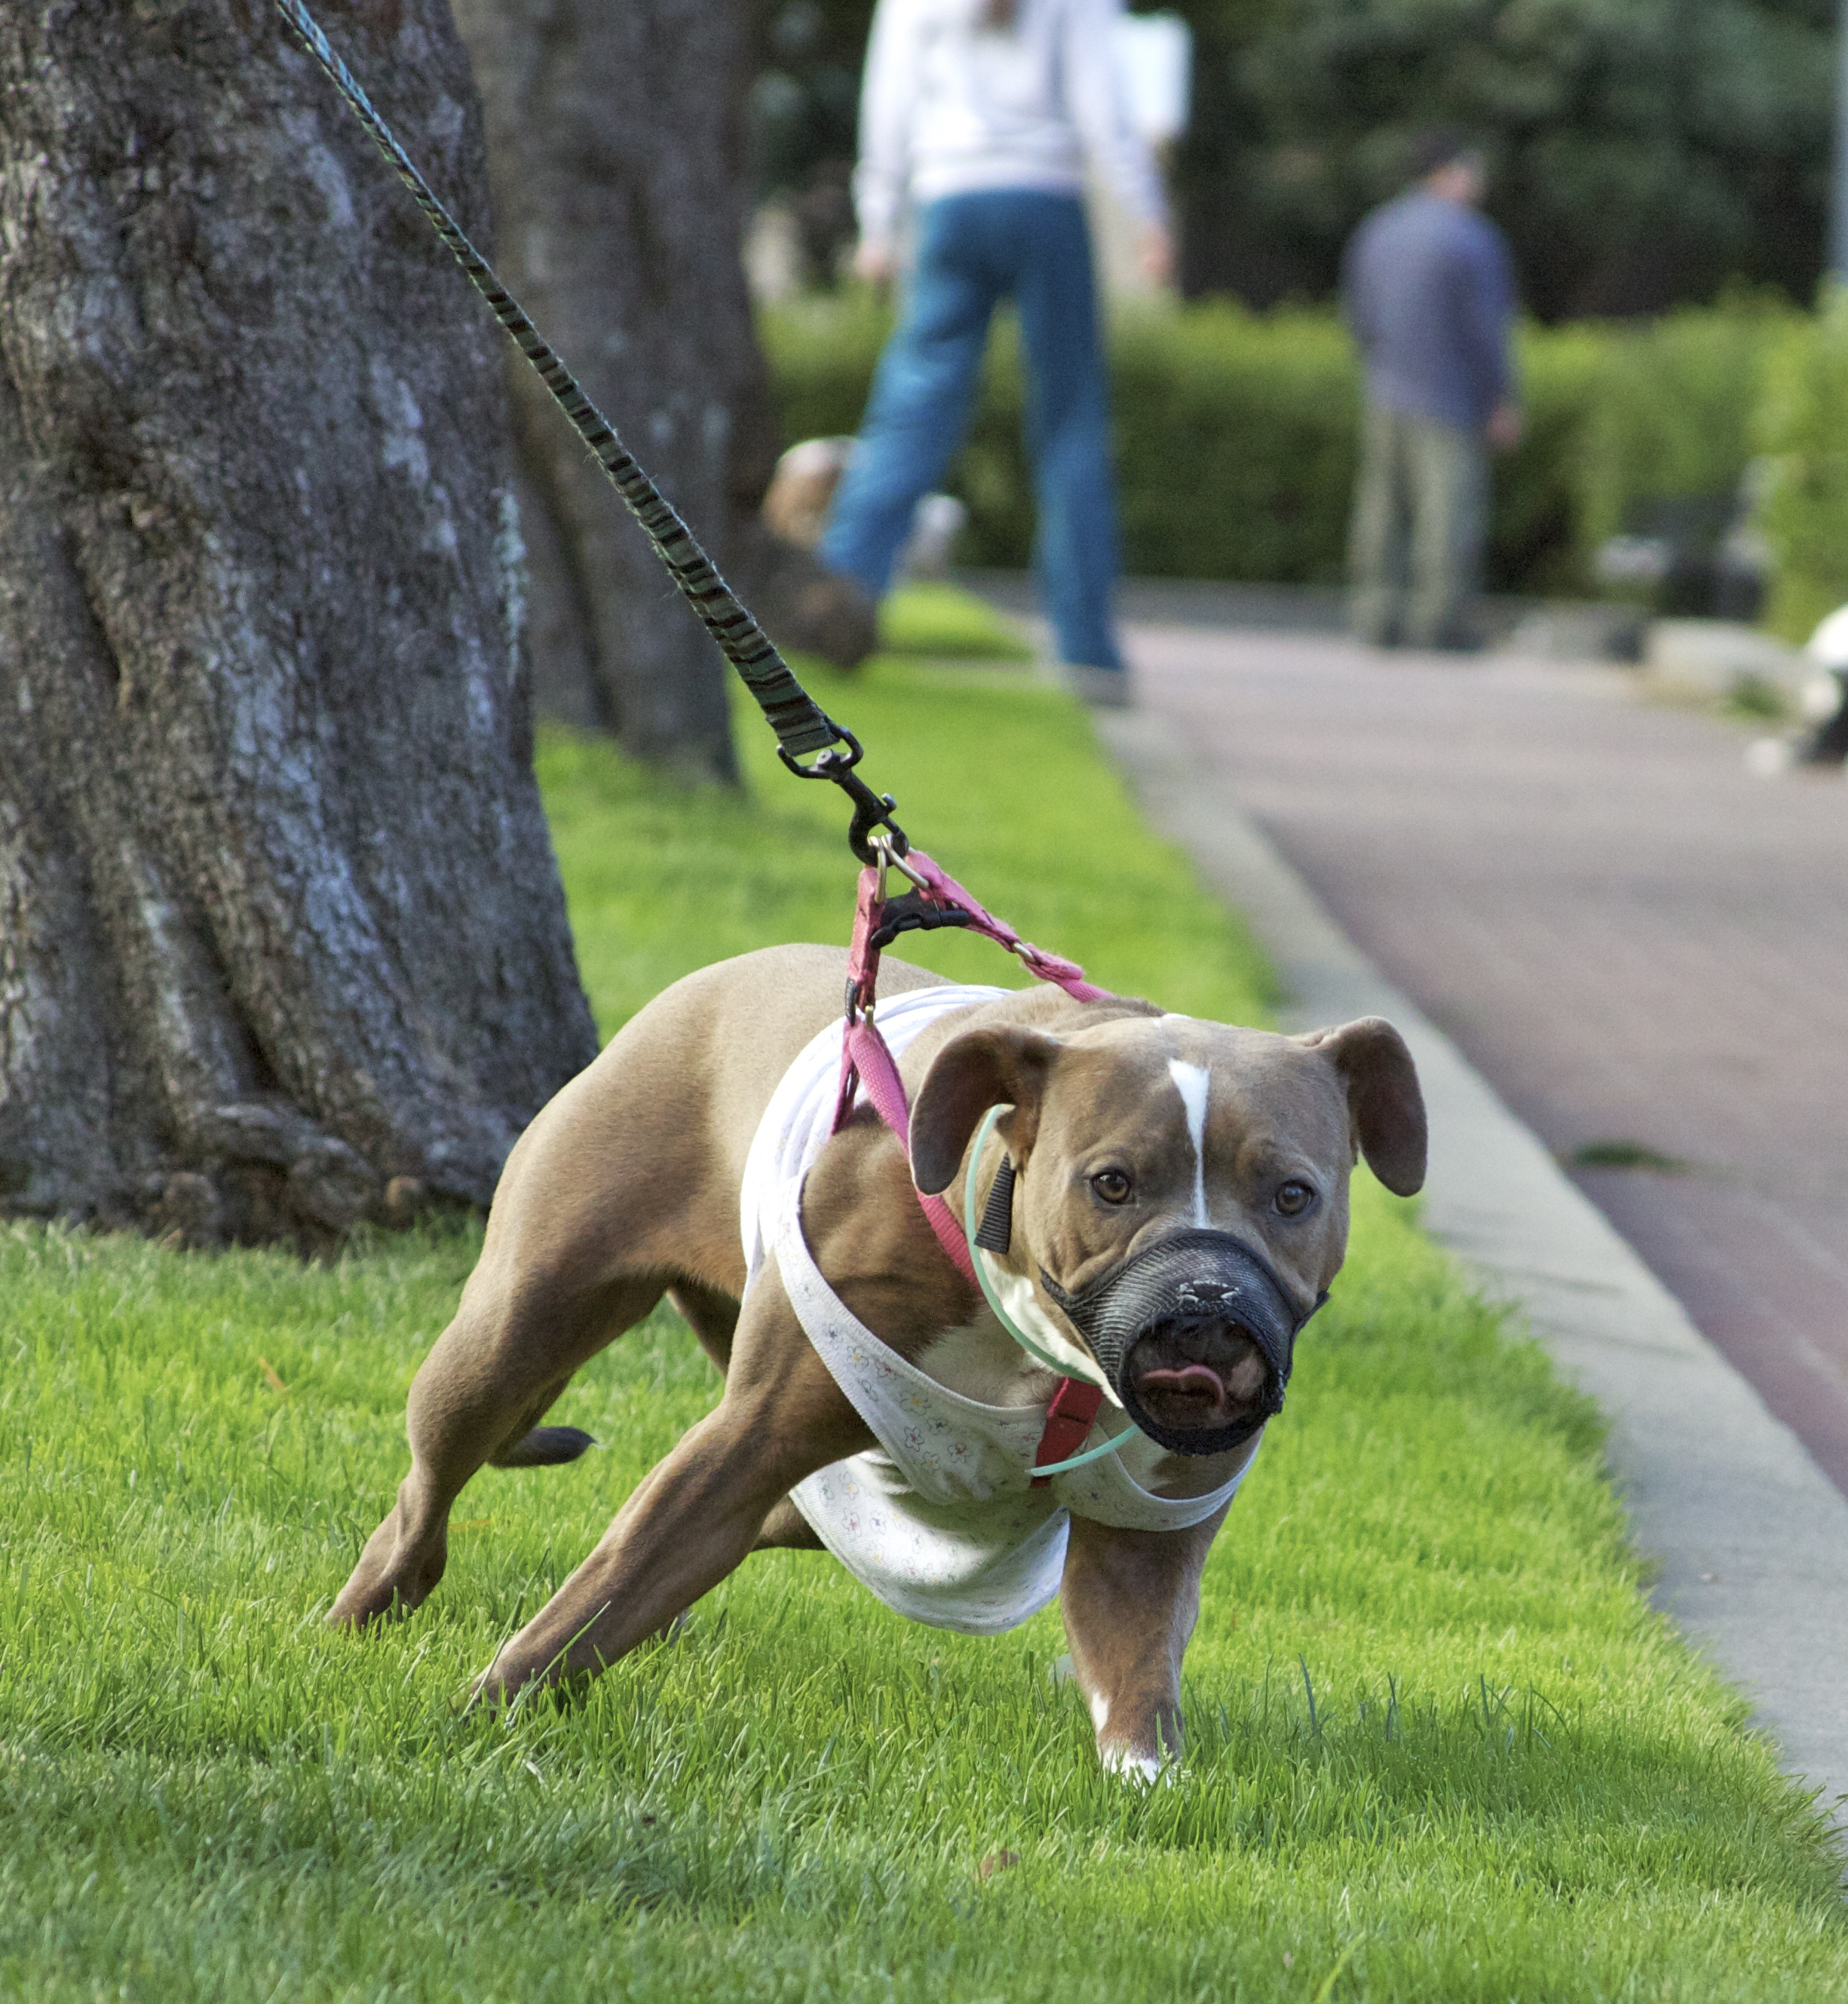am_pit_bull_terrier: (327, 938, 1430, 1789)
person: (774, 0, 1174, 711), (1338, 133, 1523, 657)
